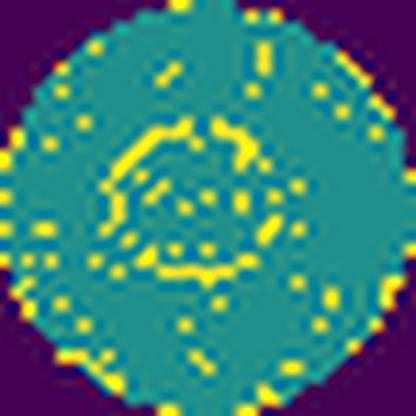Donut: (92, 101, 304, 299)
